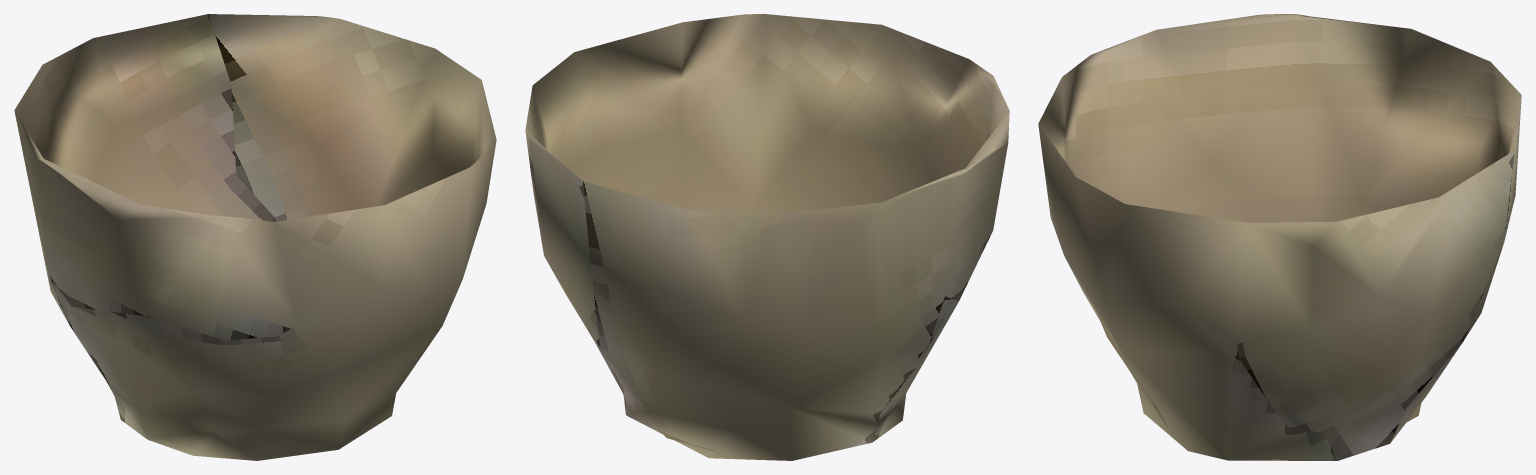
File: Footed_Bowl_Sand-low.glb
The picture shows the model from 3 angles, left to right: view 1: azimuth 30°, elevation 25°; view 2: azimuth 150°, elevation 25°; view 3: azimuth 270°, elevation 25°; orthographic projection.
Visible parts, largest first — view 1: Footed_Bowl_Sand; view 2: Footed_Bowl_Sand; view 3: Footed_Bowl_Sand.
Boxes of the visible parts, <box> form: Footed_Bowl_Sand: <box>14,14,496,460</box>; Footed_Bowl_Sand: <box>525,14,1009,460</box>; Footed_Bowl_Sand: <box>1038,14,1521,460</box>.
Size of the model in its own units: 0.1596 by 0.1083 by 0.1593.
Materials: 1 (1 with a texture image).
